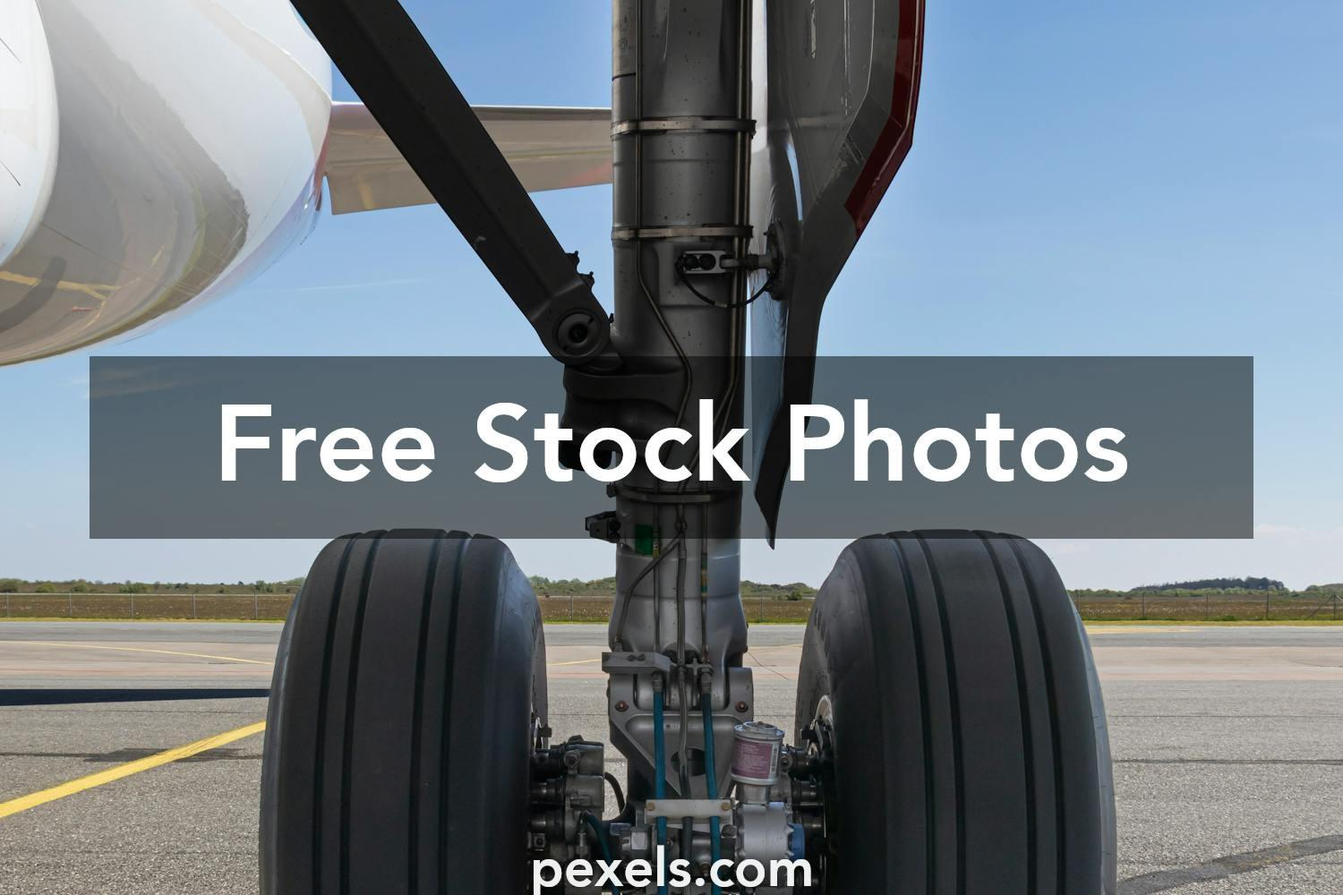wheels: (801, 530, 1117, 890), (254, 530, 546, 892)
